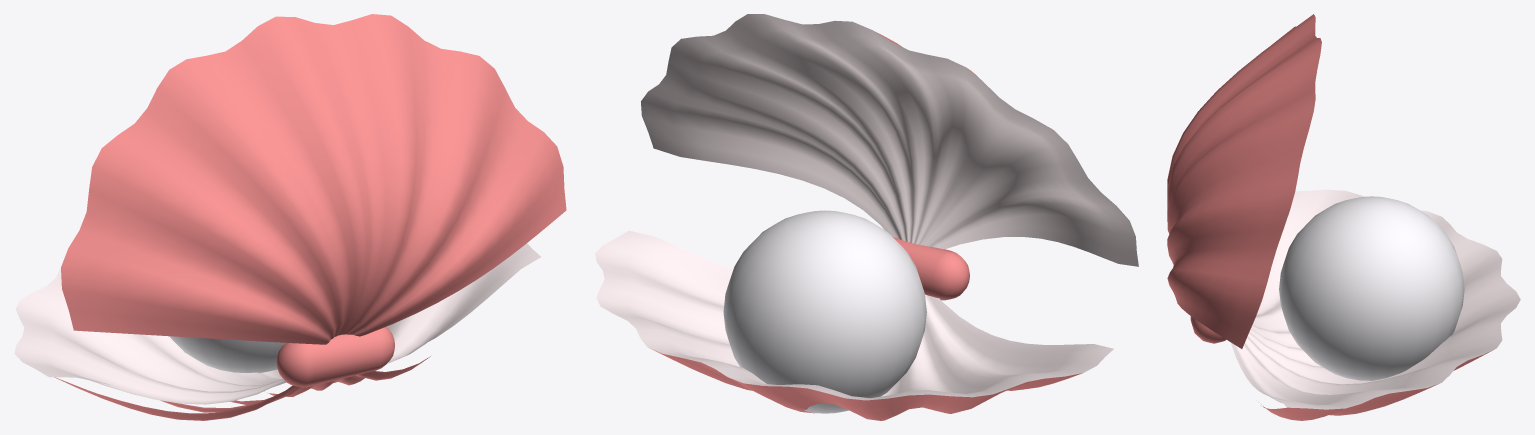
The model's file is SharkBaitPearl.glb.
The picture shows the model from 3 angles, left to right: view 1: azimuth 30°, elevation 25°; view 2: azimuth 150°, elevation 25°; view 3: azimuth 270°, elevation 25°; orthographic projection. The views are drawn at different scales.
Visible parts, largest first — view 1: Shell, ShellInside, Pearl; view 2: ShellInside, Pearl, Shell; view 3: Shell, Pearl, ShellInside.
Boxes of the visible parts, x1=… form: Shell: x1=54, y1=14, x2=566, y2=420; ShellInside: x1=14, y1=243, x2=540, y2=404; Pearl: x1=169, y1=336, x2=285, y2=372; ShellInside: x1=595, y1=14, x2=1138, y2=400; Pearl: x1=723, y1=210, x2=926, y2=413; Shell: x1=650, y1=31, x2=1082, y2=420; Shell: x1=1167, y1=14, x2=1492, y2=420; Pearl: x1=1279, y1=196, x2=1464, y2=380; ShellInside: x1=1230, y1=189, x2=1520, y2=409.
Size of the model in its own units: 2.21 by 1.6 by 1.5.
